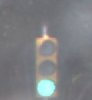Green: (31, 30, 60, 100)
